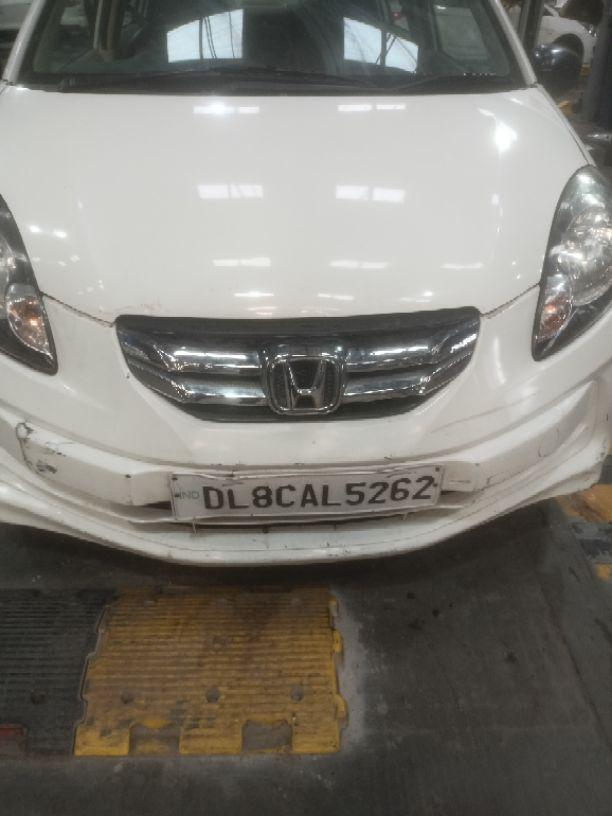license_plate: (166, 463, 444, 526)
